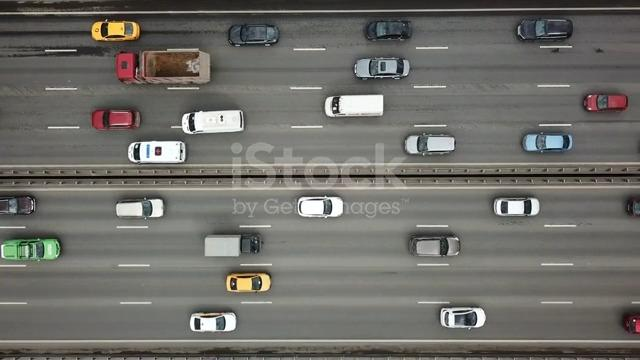Cars: (181, 110, 245, 135), (324, 94, 384, 118), (1, 238, 61, 261), (517, 18, 574, 42), (128, 141, 187, 164), (354, 57, 411, 80), (228, 23, 280, 48), (91, 19, 141, 42), (404, 134, 456, 156), (297, 196, 344, 219), (92, 109, 141, 131), (522, 132, 573, 153), (366, 20, 413, 42), (116, 198, 165, 219), (190, 312, 237, 333), (226, 272, 272, 293), (493, 197, 540, 217), (584, 93, 628, 113), (1, 195, 36, 216)
